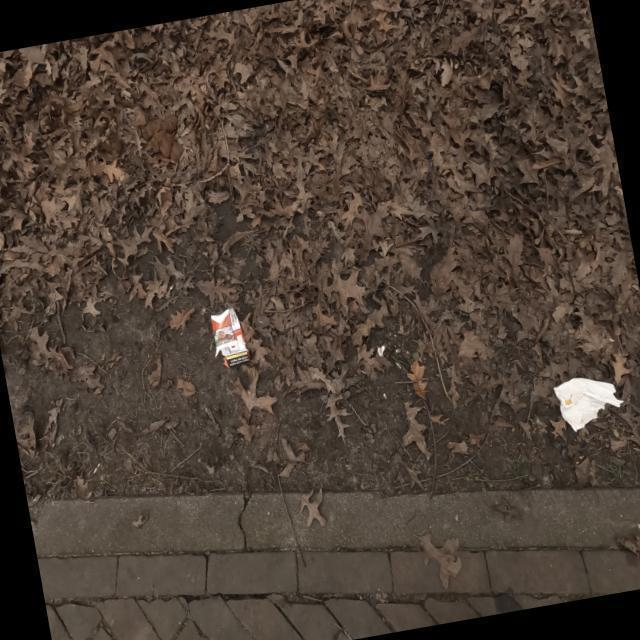Paper: (552, 376, 626, 434), (208, 305, 252, 370)
